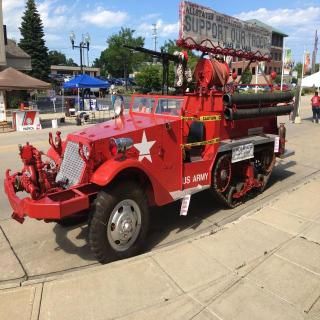Fire_truck: (4, 48, 294, 264)
